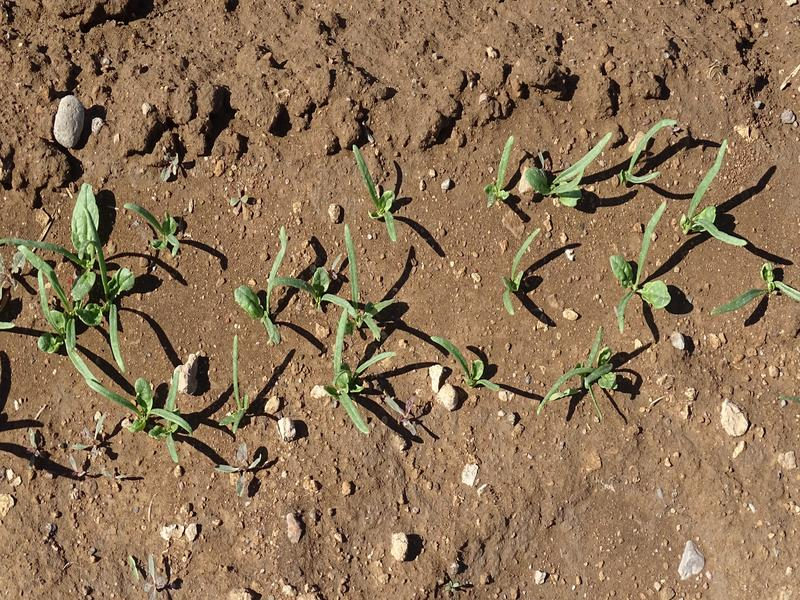Espinaca: (4, 192, 215, 447), (224, 228, 397, 437), (482, 114, 662, 204), (612, 202, 677, 327), (536, 330, 626, 418), (686, 148, 757, 251), (495, 223, 549, 309), (351, 151, 402, 235), (721, 260, 800, 311)
